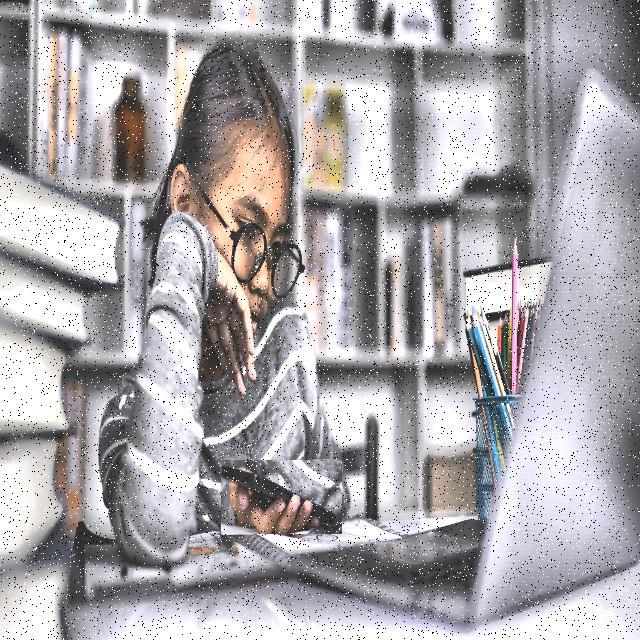Phone: (220, 460, 342, 534)
